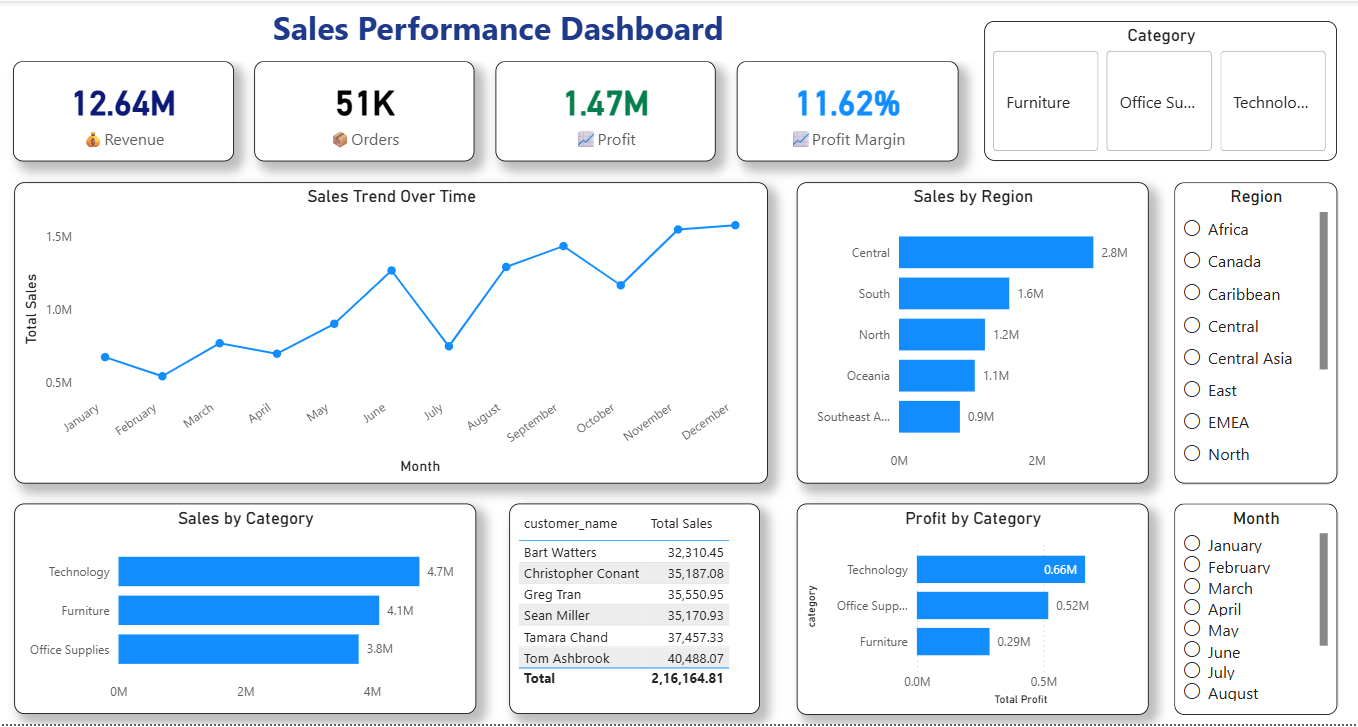

The dashboard page shown, as its layout file describes it:
{"tool":"powerbi","page":{"name":"Page 1","canvas":[1370,720],"ordinal":0},"visuals":[{"type":"card","fields":{"Values":["Orders.Total Sales"]},"box":[10,0,220,110],"z":0},{"type":"card","fields":{"Values":["Orders.Total Sales"]},"box":[20,60,220,100],"z":1000},{"type":"card","fields":{"Values":["Orders.Total Profit"]},"box":[500,60,219.6,100],"z":2000},{"type":"card","fields":{"Values":["Orders.Total Orders"]},"box":[260.7,60,219.6,100],"z":3000},{"type":"card","fields":{"Values":["Orders.Profit Margin"]},"box":[740,60,220.9,100],"z":4000},{"type":"lineChart","title":"Sales Trend Over Time","fields":{"Category":["Orders.order_date.Variation.Date Hierarchy.Month"],"Y":["Orders.Total Sales"]},"box":[20.6,180,750,300],"z":4001},{"type":"clusteredBarChart","title":"Sales by Region","fields":{"Category":["Orders.region"],"Y":["Orders.Total Sales"]},"box":[800,180,350,300],"z":4002},{"type":"barChart","title":"Sales by Category","fields":{"Category":["Orders.category"],"Y":["Orders.Total Sales"]},"box":[20.6,500,459.7,209.9],"z":4003},{"type":"barChart","title":"Profit by Category","fields":{"Category":["Orders.category"],"Y":["Orders.Total Profit"]},"box":[800,500,350,210],"z":4004},{"type":"tableEx","fields":{"Values":["Orders.customer_name","Orders.Total Sales"]},"box":[514.6,500,249.7,209.9],"z":4005},{"type":"textbox","box":[20.4,0,966.1,60],"z":4006},{"type":"advancedSlicerVisual","title":"Category","fields":{"Values":["Orders.category"]},"box":[986.6,20.4,351.6,139],"z":4008},{"type":"listSlicer","title":"Region","fields":{"Values":["Orders.region"]},"box":[1176,179.9,162.2,299.8],"z":4010},{"type":"listSlicer","fields":{"Values":["Orders.order_date.Variation.Date Hierarchy.Month"]},"box":[1176,500,162,210],"z":4011}]}

Visuals, with their boxes in screenshot pixels (x1, y1, x2, y2), scaled from the page's 1370x720 canvas onto the 1358x727 screenshot:
card - Orders.Total Sales: (10, 0, 228, 111)
card - Orders.Total Sales: (20, 61, 238, 162)
card - Orders.Total Profit: (496, 61, 713, 162)
card - Orders.Total Orders: (258, 61, 476, 162)
card - Orders.Profit Margin: (734, 61, 952, 162)
"Sales Trend Over Time" lineChart: (20, 182, 764, 485)
"Sales by Region" clusteredBarChart: (793, 182, 1140, 485)
"Sales by Category" barChart: (20, 505, 476, 717)
"Profit by Category" barChart: (793, 505, 1140, 717)
tableEx - Orders.customer_name x Orders.Total Sales: (510, 505, 758, 717)
textbox: (20, 0, 978, 61)
"Category" advancedSlicerVisual: (978, 21, 1326, 161)
"Region" listSlicer: (1166, 182, 1326, 484)
listSlicer - Orders.order_date.Variation.Date Hierarchy.Month: (1166, 505, 1326, 717)
